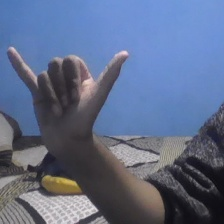Y: (6, 37, 133, 155)
